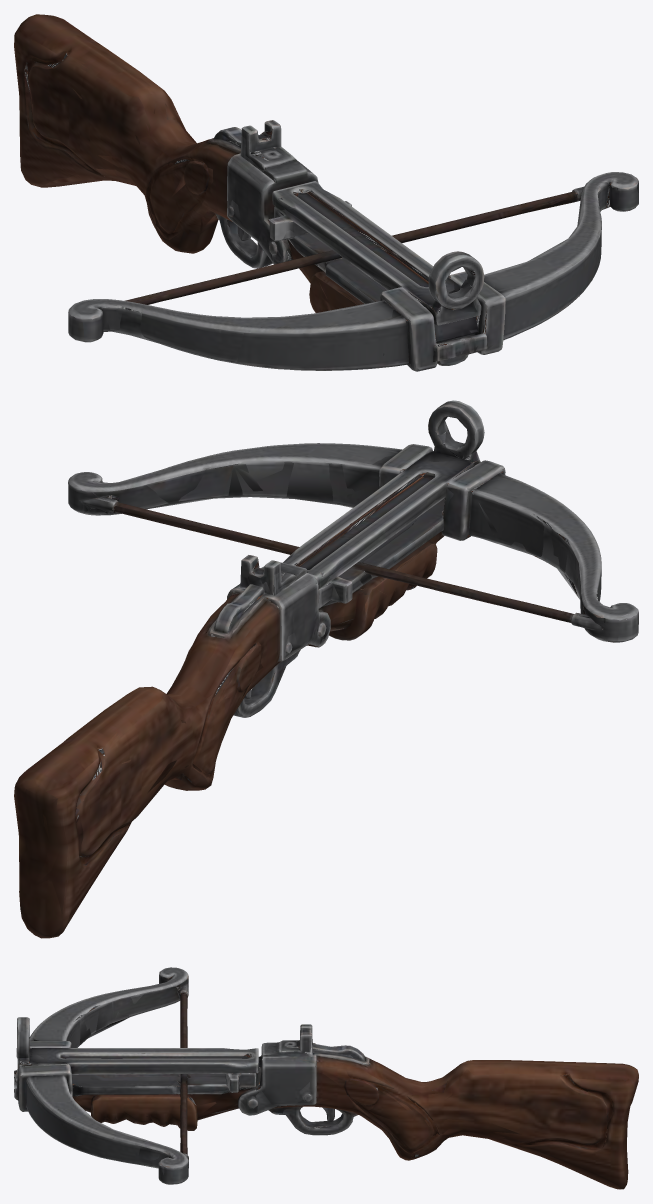
File: crossbow.glb
3 views of the same model, one above another, from view 1: azimuth 30°, elevation 25°; view 2: azimuth 150°, elevation 25°; view 3: azimuth 270°, elevation 25° (orthographic). The views are drawn at different scales.
Visible parts, largest first — view 1: model, mesh_lod; view 2: model, mesh_lod; view 3: model, mesh_lod.
Part boxes in pixels (x1,y1,x2,y2): model: (14, 14, 638, 371); mesh_lod: (14, 20, 638, 370); model: (14, 400, 638, 938); mesh_lod: (15, 407, 626, 937); model: (14, 967, 638, 1189); mesh_lod: (14, 973, 638, 1185).
Bounding box in the file's own units: 0.652 × 0.2571 × 0.86.
1 material, 1 textured.
